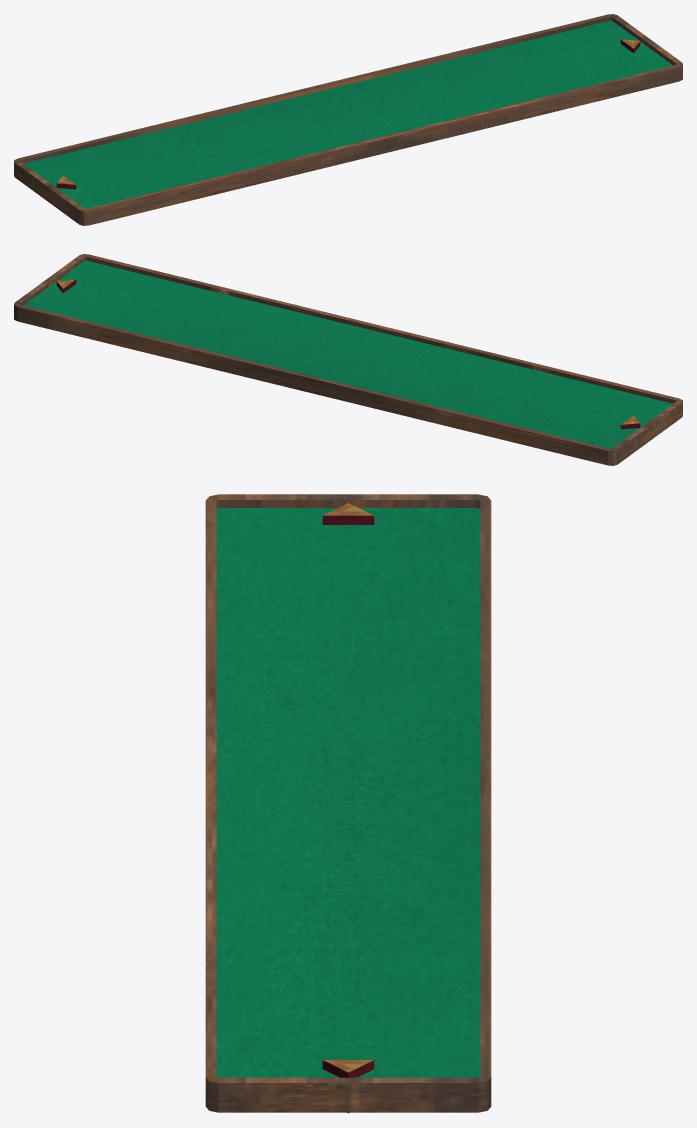
File: army field.fbx
3 renders of one model, top to bottom at view 1: azimuth 30°, elevation 25°; view 2: azimuth 150°, elevation 25°; view 3: azimuth 270°, elevation 25°, orthographic. The views are drawn at different scales.
Parts seen in each view (by area): view 1: Cube.001; view 2: Cube.001; view 3: Cube.001.
Part boxes in pixels (x1,y1,x2,y2): Cube.001: [14, 14, 682, 225]; Cube.001: [14, 254, 682, 465]; Cube.001: [205, 494, 491, 1113].
Size of the model in its own units: 1628 by 52.62 by 334.
3 materials, 3 textured.
